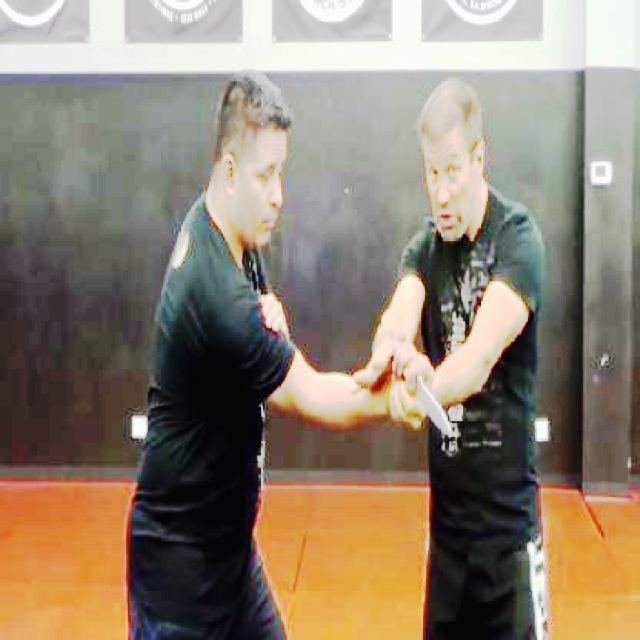Knife: (400, 372, 458, 438)
